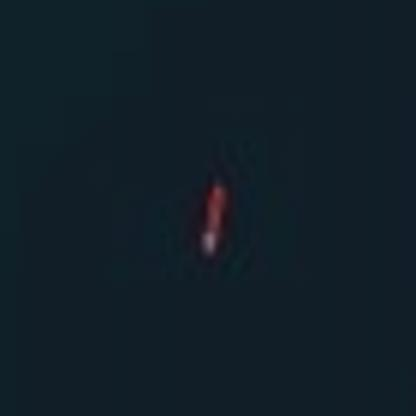ship: (191, 174, 231, 263)
